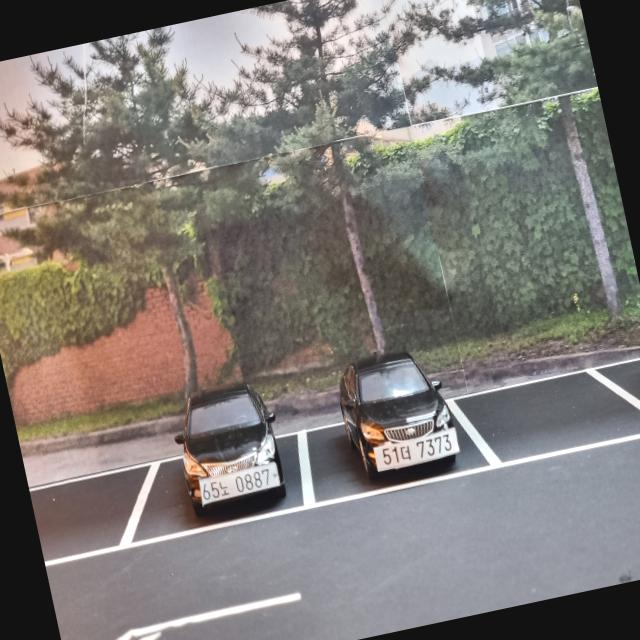car: (147, 350, 318, 540), (319, 324, 469, 490)
free: (444, 351, 640, 480), (28, 458, 175, 572)
